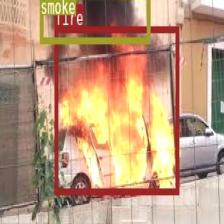fire: (54, 25, 178, 194)
smoke: (39, 0, 150, 41)
